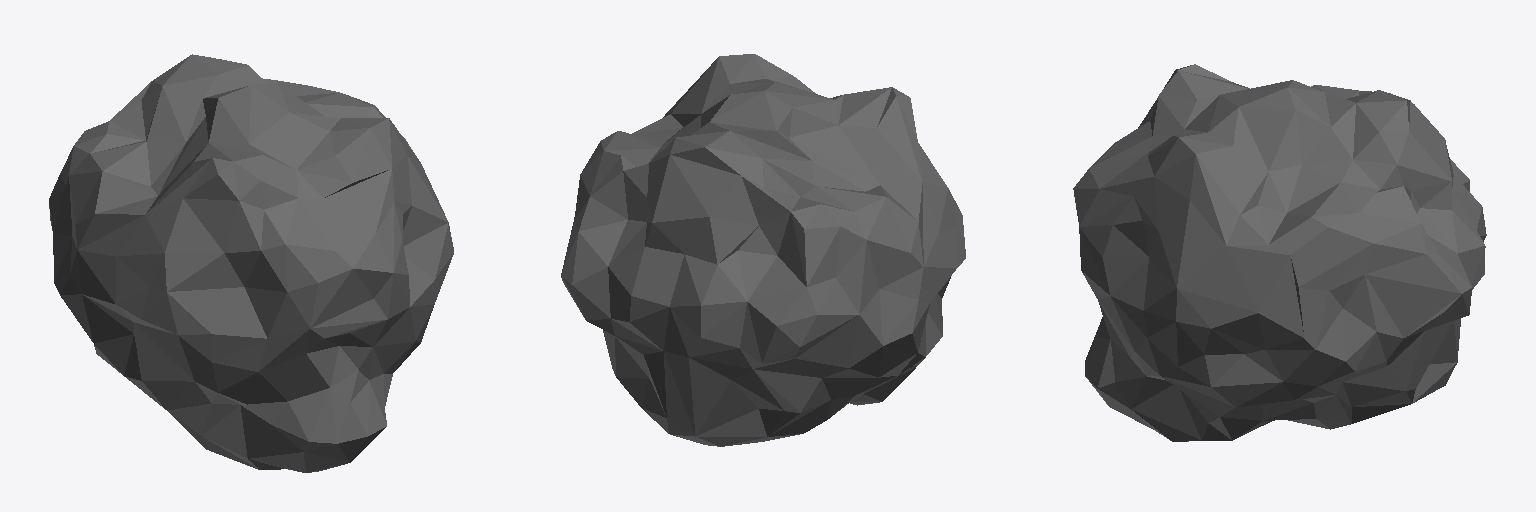
The model's file is Asteroid.obj.
3 views of the same model, side by side, from view 1: azimuth 30°, elevation 25°; view 2: azimuth 150°, elevation 25°; view 3: azimuth 270°, elevation 25° (orthographic).
Parts seen in each view (by area): view 1: Asteroid; view 2: Asteroid; view 3: Asteroid.
Boxes of the visible parts, box(x1,y1,x2,y2) form: Asteroid: box(49, 54, 453, 472); Asteroid: box(561, 54, 965, 446); Asteroid: box(1073, 64, 1486, 441).
Bounding box in the file's own units: 125 × 118 × 132.